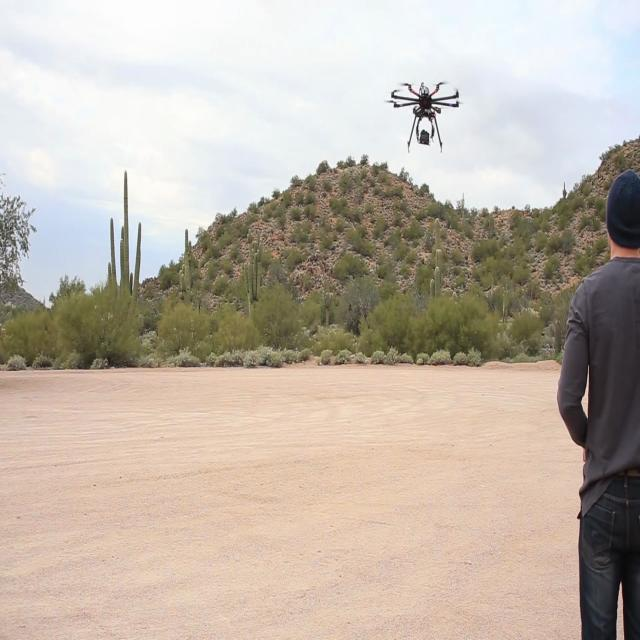drone: (380, 62, 462, 160)
